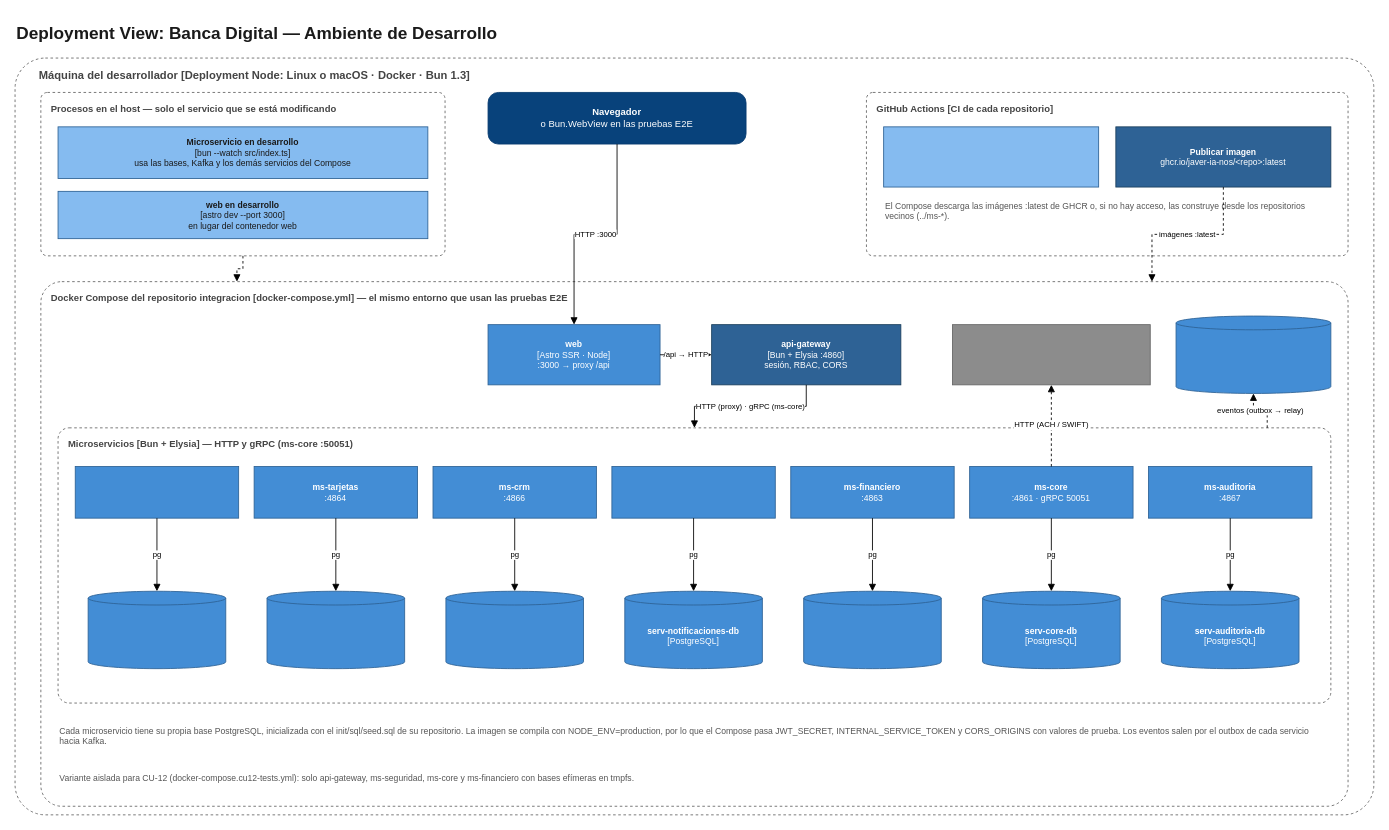
Some shapes in this 1389 by 830 pixel diagram are drawn without their labels. Here are the shapes that lost their labels. From the top down, the centre of each, then its label:
the point at 991,156: Run Tests bun check · bun fmt --check · bun test (con su propio PostgreSQL)
the point at 1051,354: mock-pagos-externos [Bun :4870] simula ACH y SWIFT (ISO 20022)
the point at 1253,354: kafka [KRaft · un nodo :9092]
the point at 156,492: ms-seguridad :4865
the point at 693,492: ms-notificaciones :4868
the point at 156,629: serv-seguridad-db [PostgreSQL]
the point at 335,629: serv-tarjetas-db [PostgreSQL]
the point at 514,629: serv-crm-db [PostgreSQL]
the point at 872,629: serv-financiero-db [PostgreSQL]
